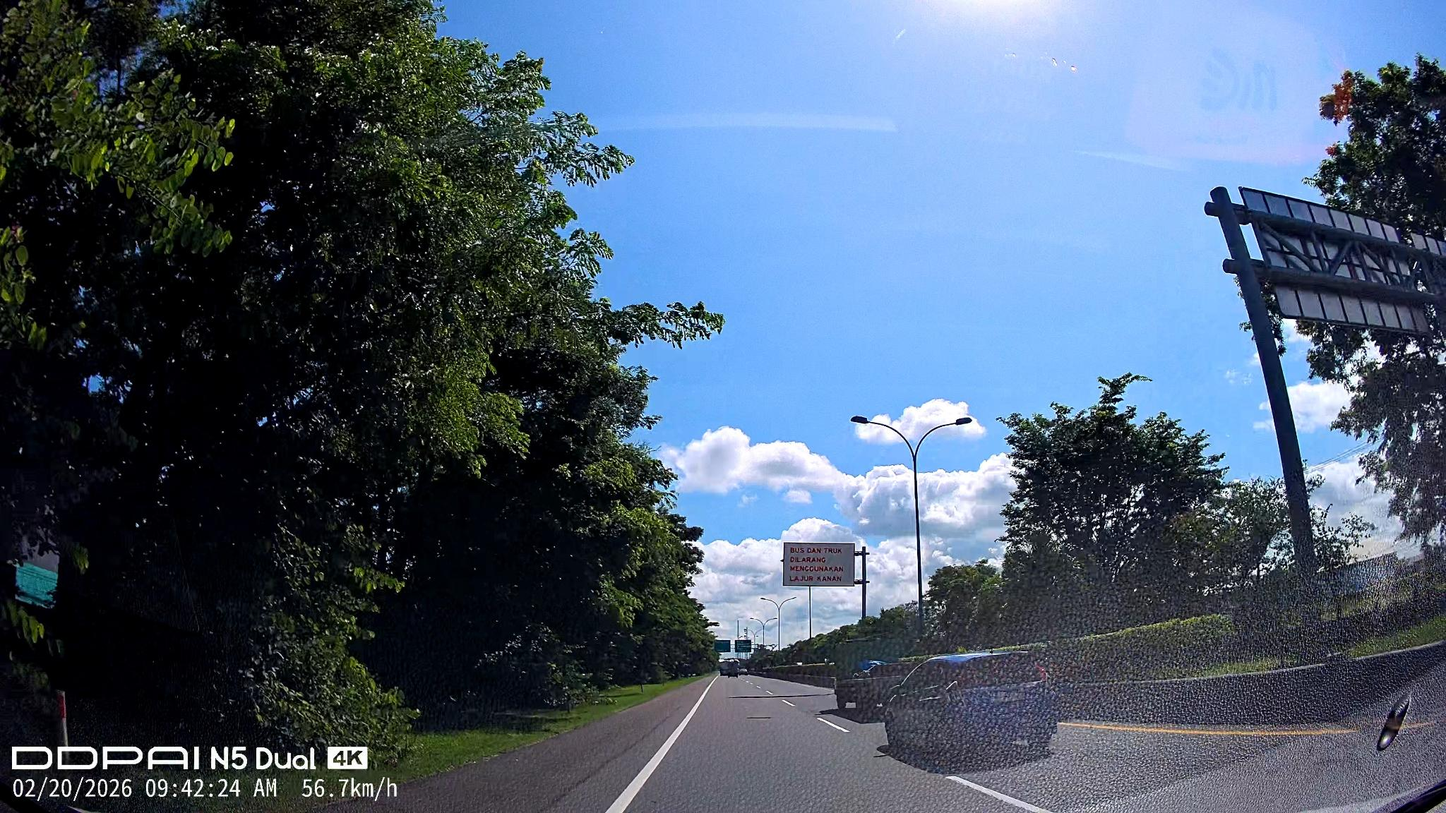rambu_teks: (783, 541, 855, 587)
